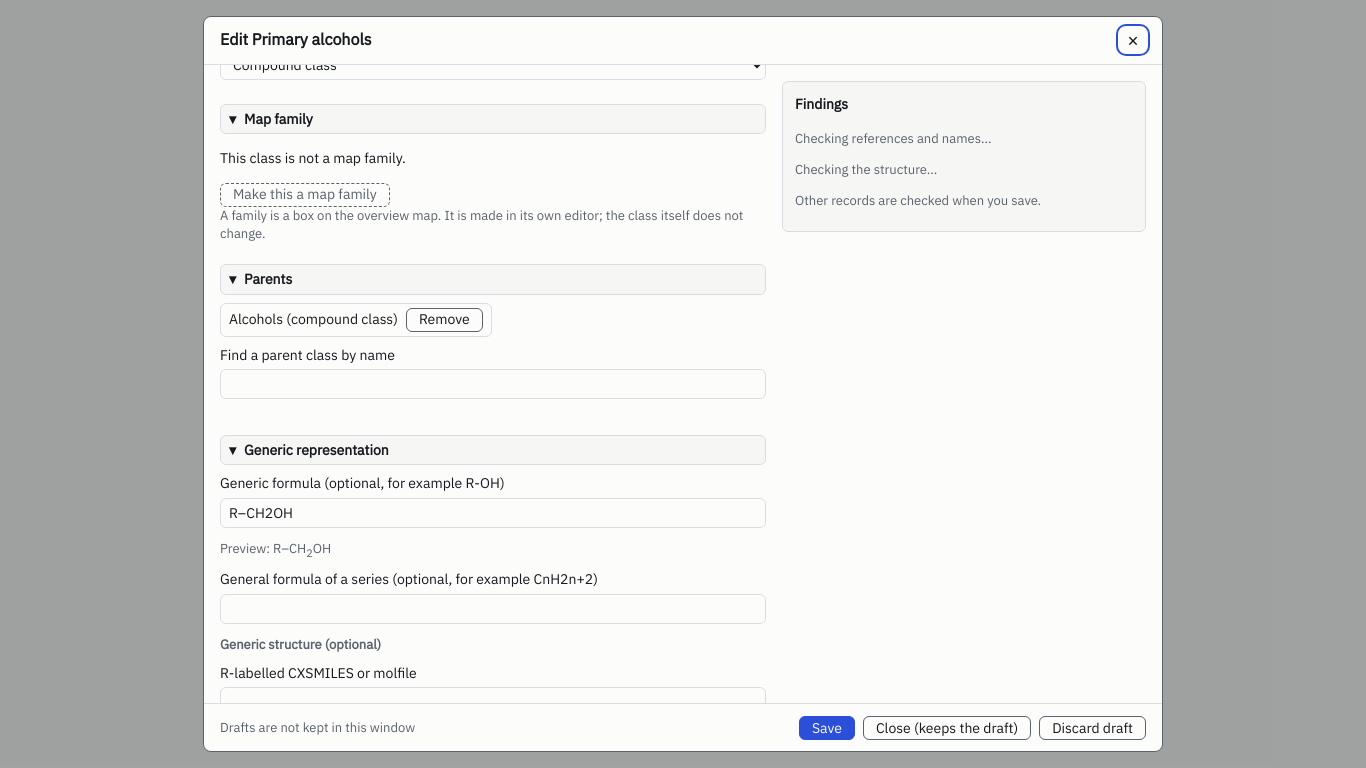
Test: Parents (cycle-safe, HIER-001) › a class that is above or beside is offered (only a cycle is refused)
(page scrolled)
Type "secondary" into the search field labelled "Find a parent class by name" at [493, 384], box top-left (220, 369), bottom-right (766, 399)
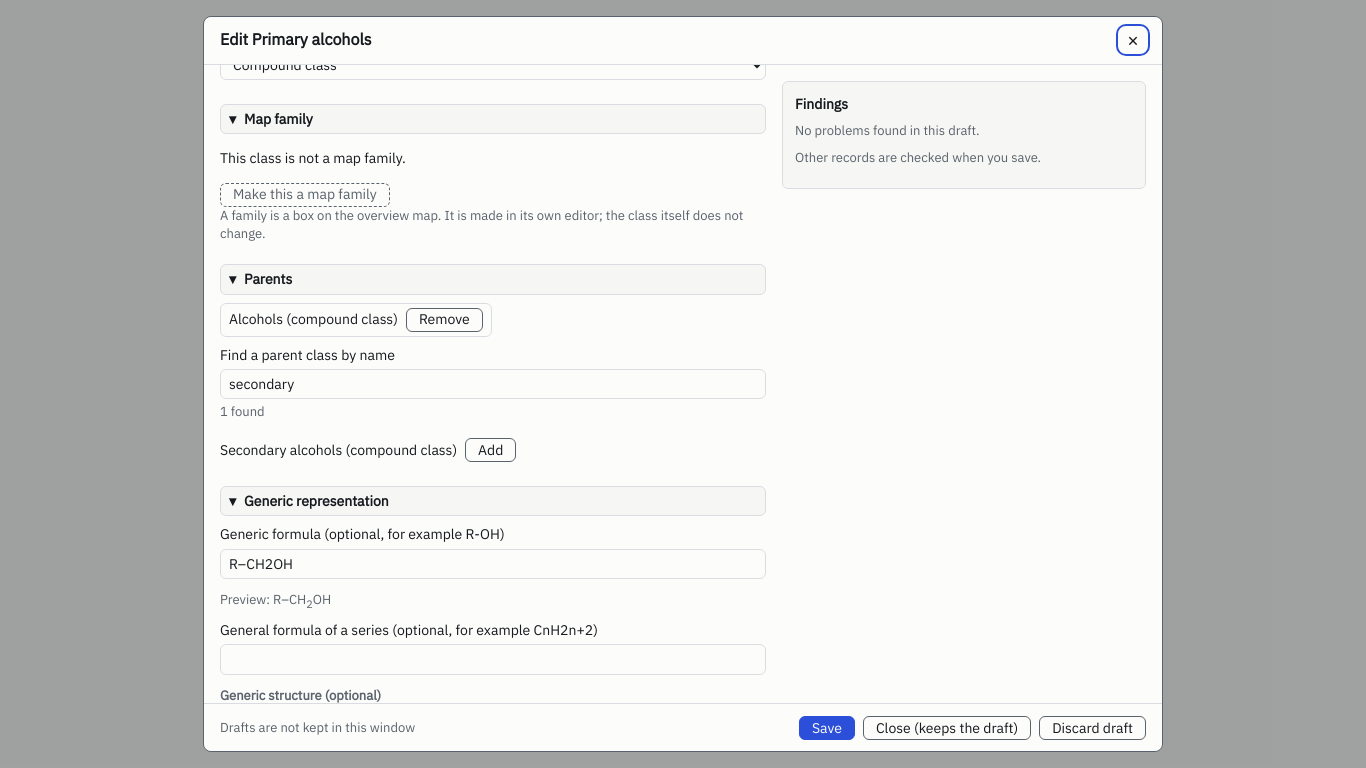
Expected: the button with aria-label "Add Secondary alcohols" is shown, top-left (465, 438), bottom-right (516, 462)
